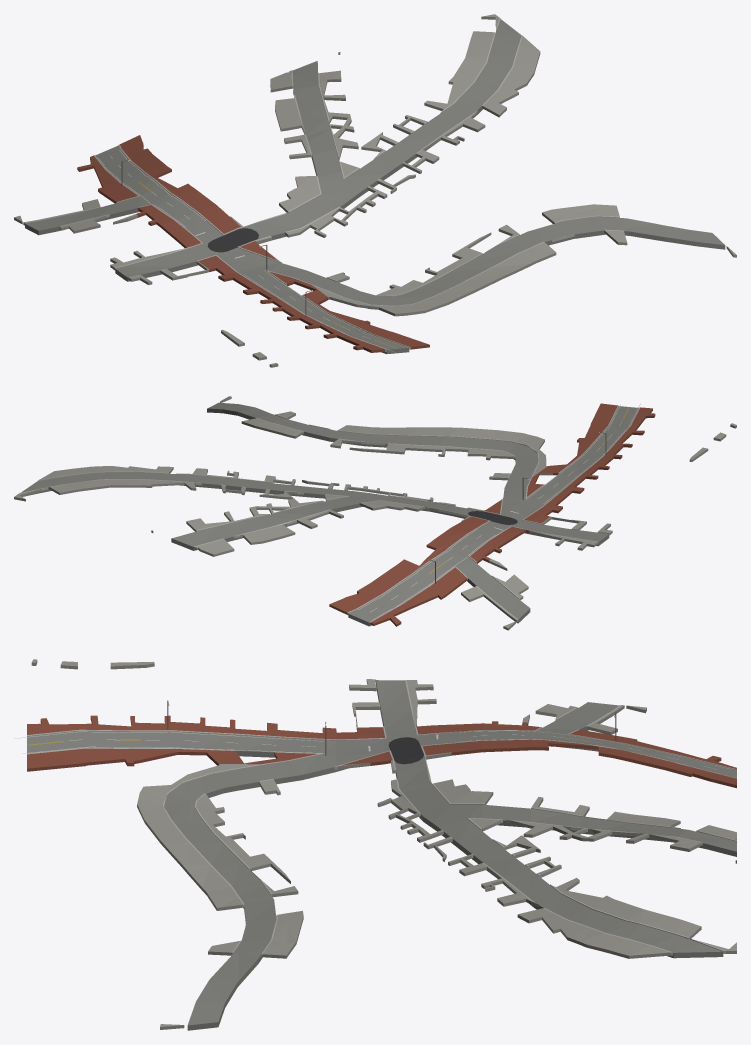
Rendered from 18-218913-118989.b5cfdf33.glb.
The picture shows the model from 3 angles, top to bottom: view 1: azimuth 30°, elevation 25°; view 2: azimuth 150°, elevation 25°; view 3: azimuth 270°, elevation 25°; orthographic projection. The views are drawn at different scales.
Bounding box in the file's own units: 147 × 18.86 × 149.
